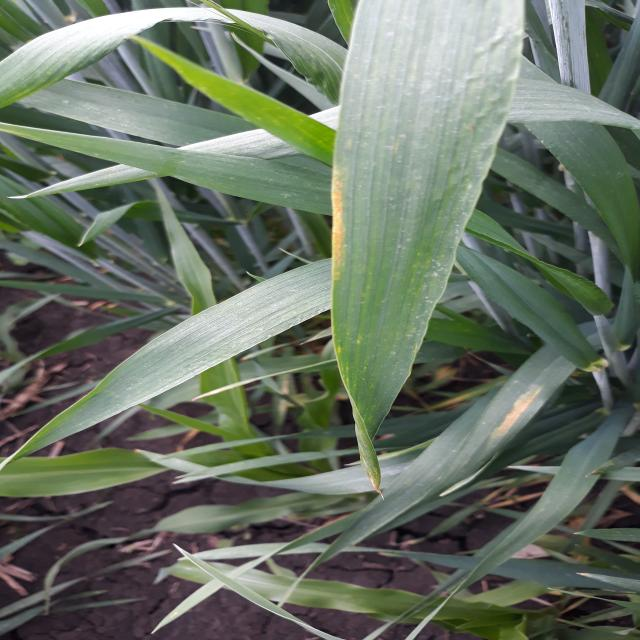yellow_rust: (294, 127, 524, 505), (462, 363, 588, 460)
